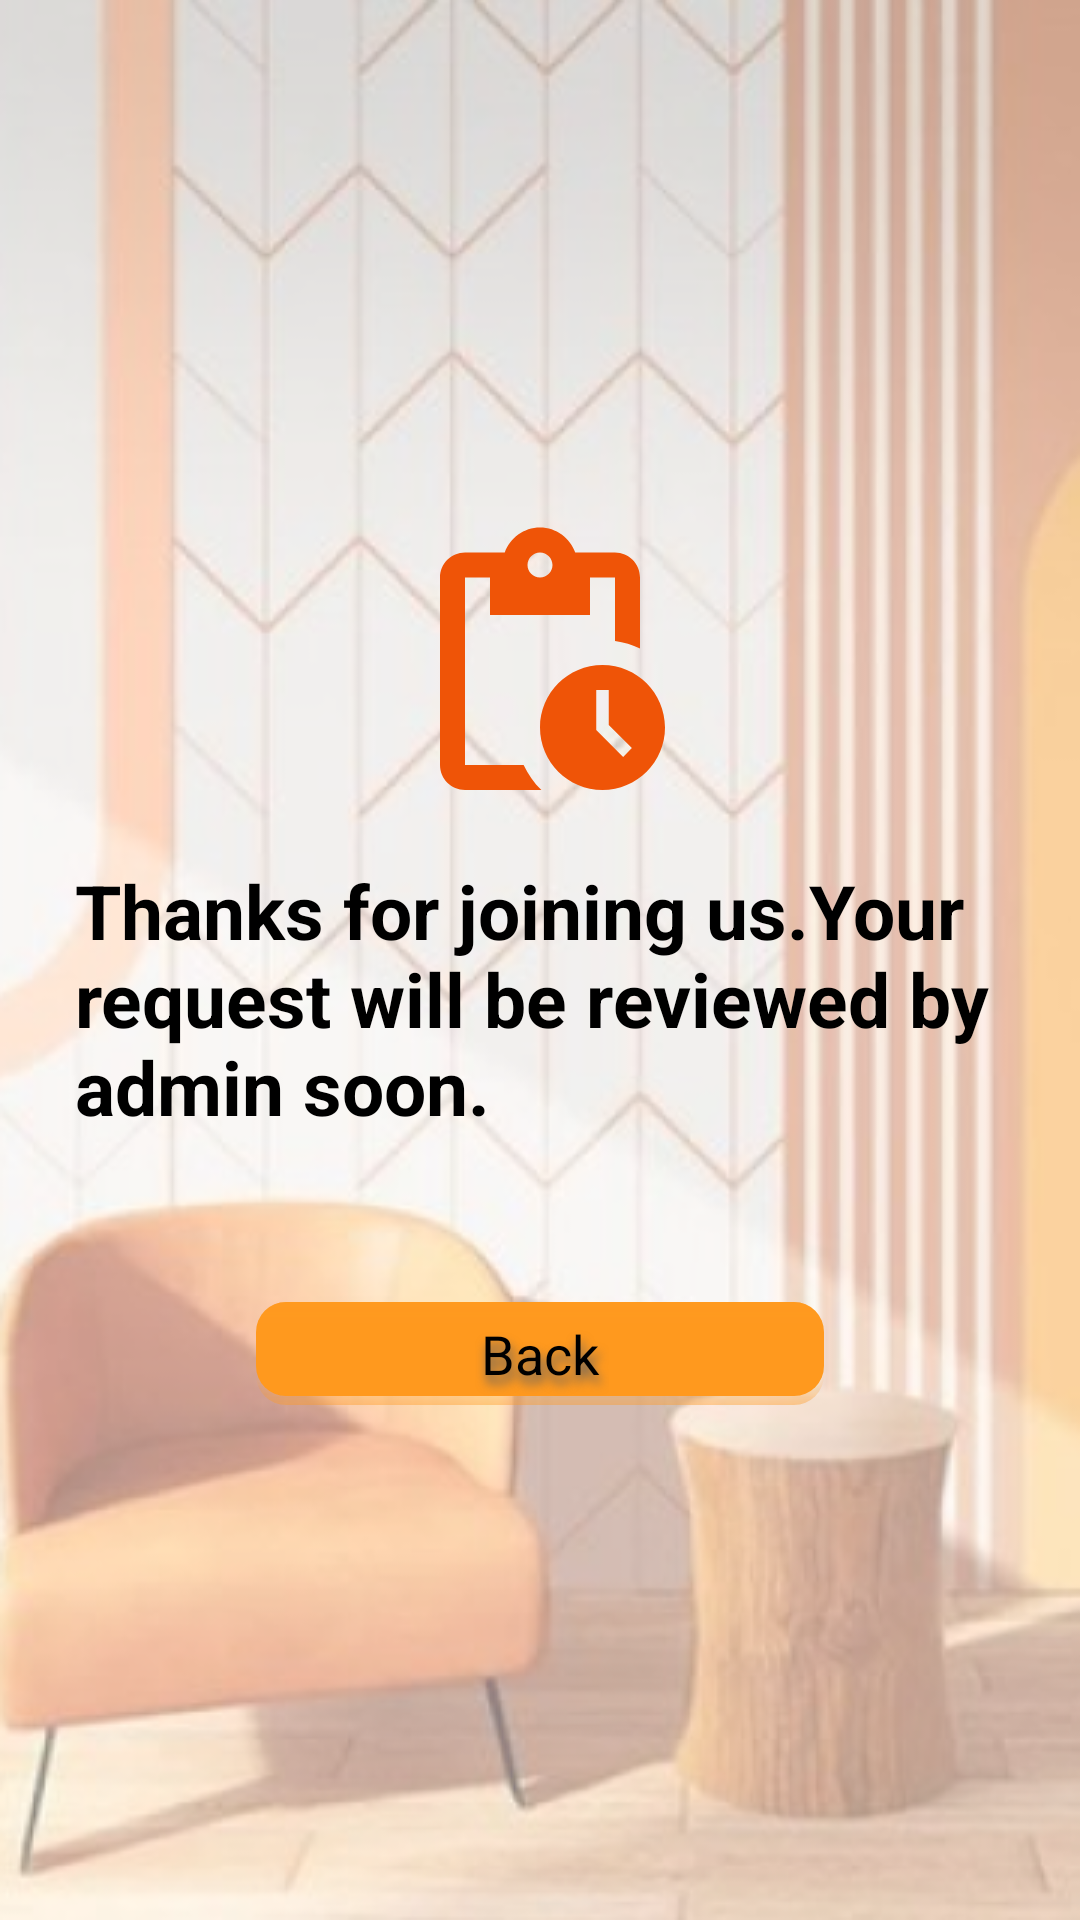

Icons on this 1080 × 1920 Android screen, each with its box as (x1, y1, x2, y2):
pending actions: (390, 527, 690, 815)
